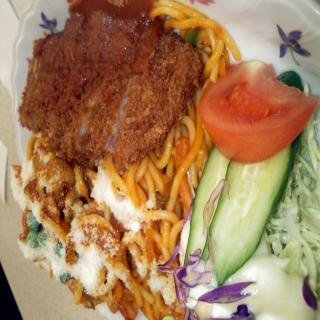Cucumber: (197, 147, 301, 266), (182, 146, 229, 270)
Salad: (9, 0, 319, 319)
